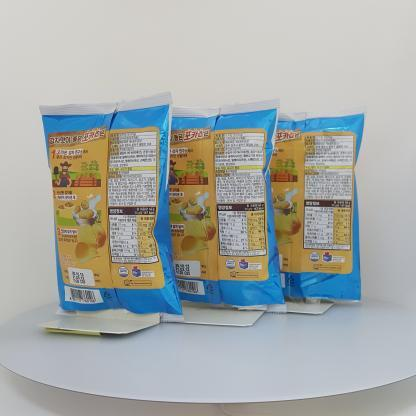Plastic Packaging: (177, 103, 282, 311), (272, 102, 370, 310)
